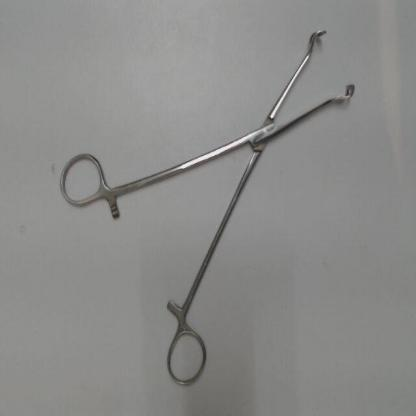8 Babcock Tissue Forceps: (55, 23, 362, 392)
